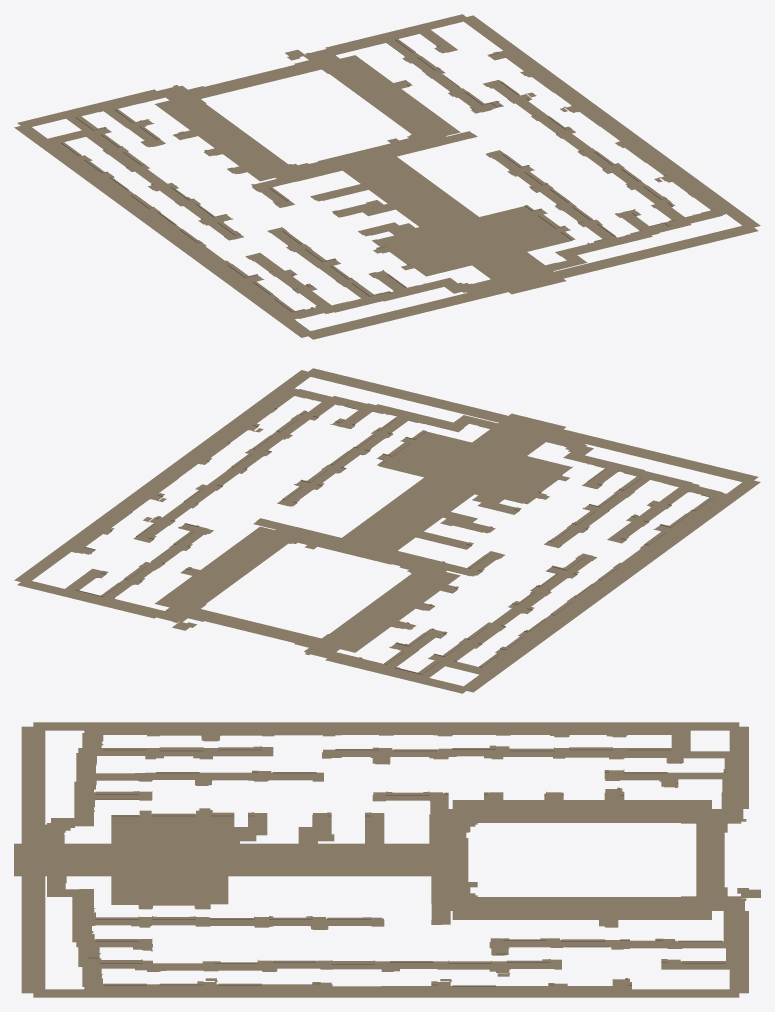
File: senderos_base.obj
3 renders of one model, top to bottom at view 1: azimuth 30°, elevation 25°; view 2: azimuth 150°, elevation 25°; view 3: azimuth 270°, elevation 25°, orthographic. The views are drawn at different scales.
Visible parts, largest first — view 1: Senderos_base; view 2: Senderos_base; view 3: Senderos_base.
Part boxes in pixels (x1,y1,x2,y2): Senderos_base: (14,14,760,339); Senderos_base: (14,368,760,693); Senderos_base: (14,722,760,997).
Size of the model in its own units: 33.4 by 0.04 by 38.31.
